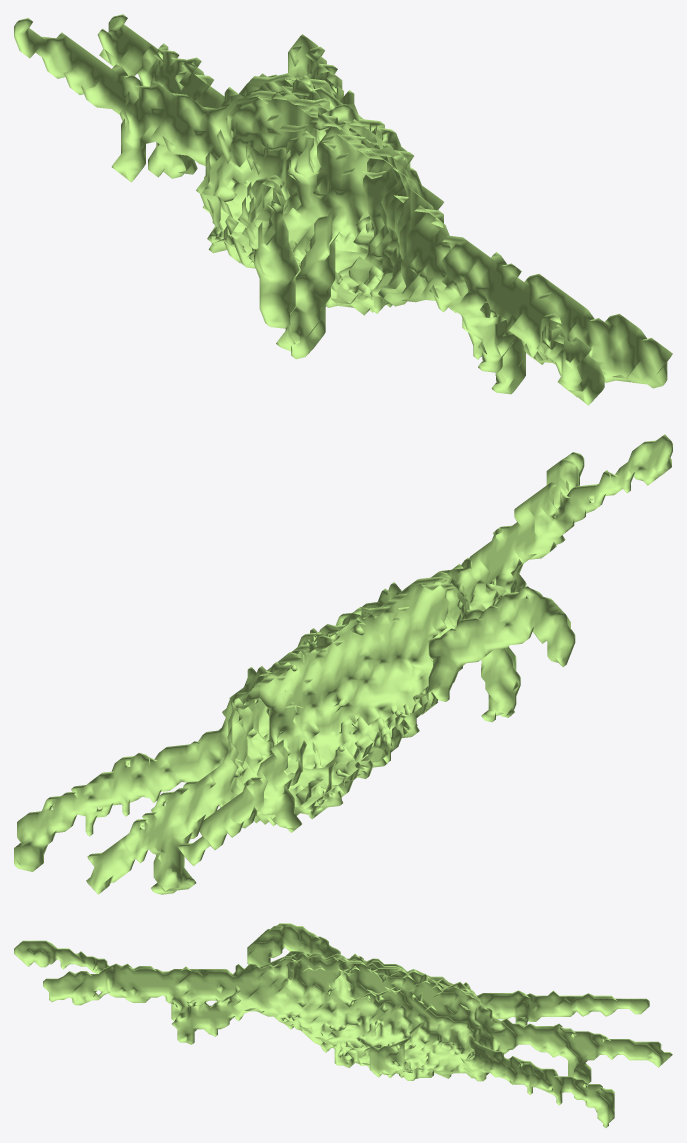
File: osteocyte_37.glb
The picture shows the model from 3 angles, top to bottom: view 1: azimuth 30°, elevation 25°; view 2: azimuth 150°, elevation 25°; view 3: azimuth 270°, elevation 25°; orthographic projection. The views are drawn at different scales.
Parts seen in each view (by area): view 1: osteocyte_37; view 2: osteocyte_37; view 3: osteocyte_37.
Boxes of the visible parts, x1,y1,x2,y2 form: osteocyte_37: [14, 14, 672, 405]; osteocyte_37: [14, 434, 672, 894]; osteocyte_37: [14, 923, 672, 1127].
Size of the model in its own units: 19.26 by 11.07 by 54.41.
